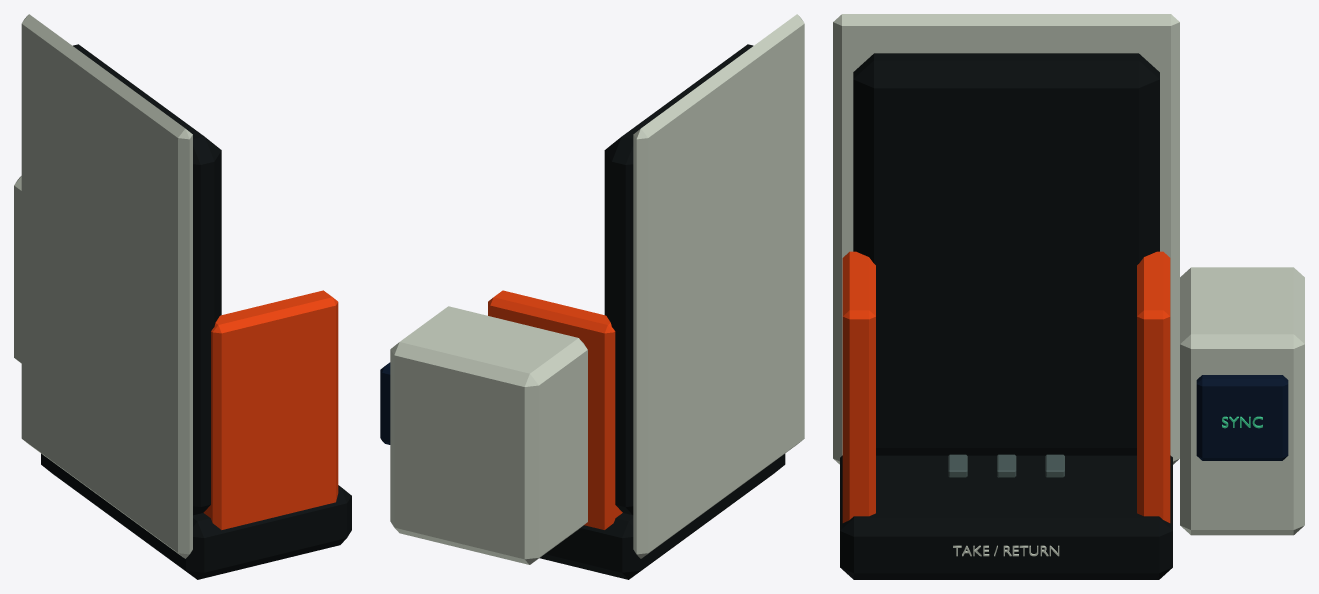
Rendered from SM_MP_Flow_CommsDock.fbx.
3 renders of one model, left to right at view 1: azimuth 30°, elevation 25°; view 2: azimuth 150°, elevation 25°; view 3: azimuth 270°, elevation 25°, orthographic. The views are drawn at different scales.
Visible parts, largest first — view 1: SM_MP_Flow_CommsDock; view 2: SM_MP_Flow_CommsDock; view 3: SM_MP_Flow_CommsDock.
Boxes of the visible parts, x1,y1,x2,y2 form: SM_MP_Flow_CommsDock: [14, 14, 351, 579]; SM_MP_Flow_CommsDock: [380, 14, 804, 579]; SM_MP_Flow_CommsDock: [833, 14, 1304, 579].
Size of the model in its own units: 19.15 by 34 by 38.45.
Materials: 1 (1 with a texture image).
